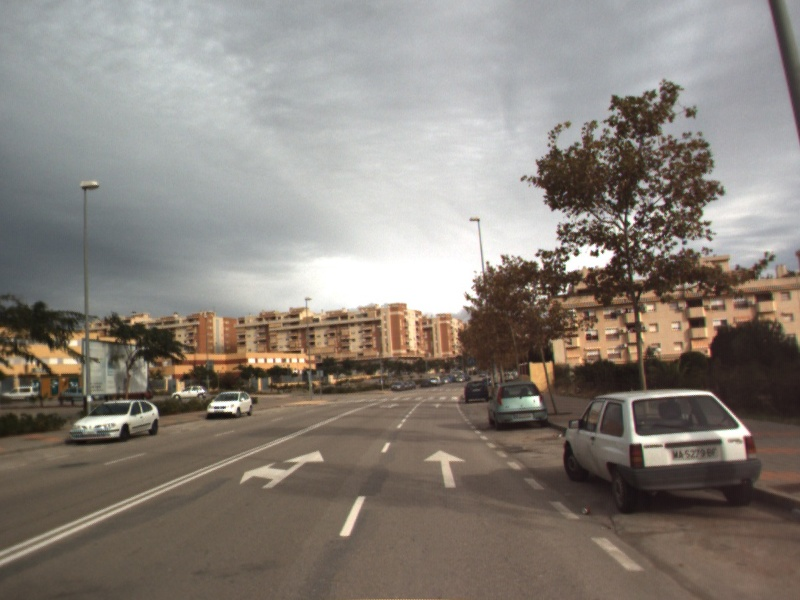STRAIGHT: (422, 448, 468, 490)
STRAIGHT_LEFT: (238, 448, 326, 491)
